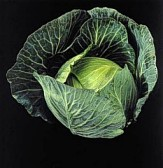cabbage: (4, 6, 160, 139)
